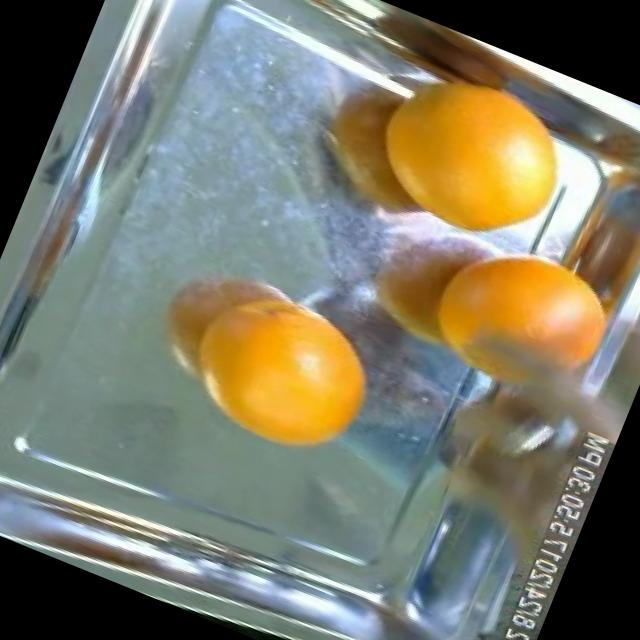Fruit: (375, 189, 640, 442), (172, 271, 403, 485)
